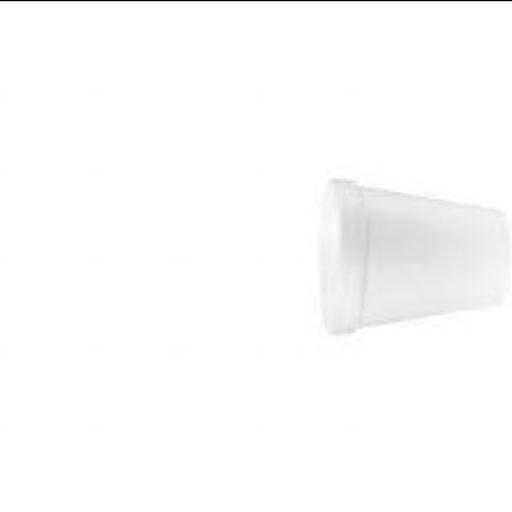paper: (322, 178, 498, 332)
